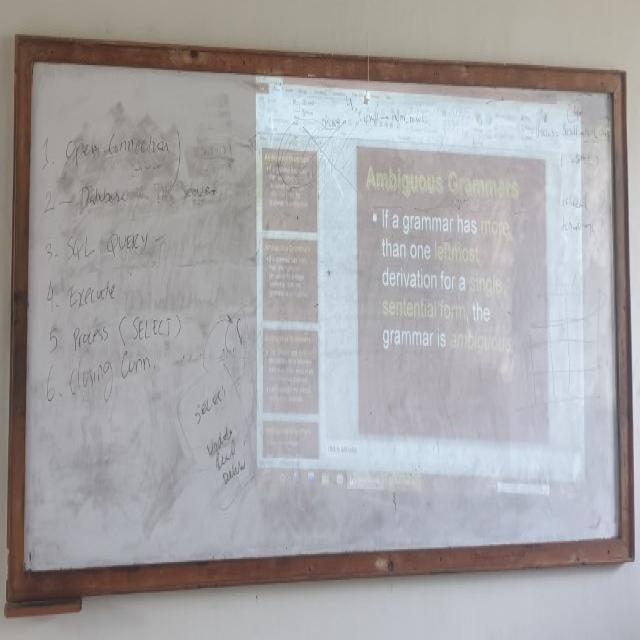Slide: (256, 67, 587, 508)
White-board: (18, 52, 626, 594)
